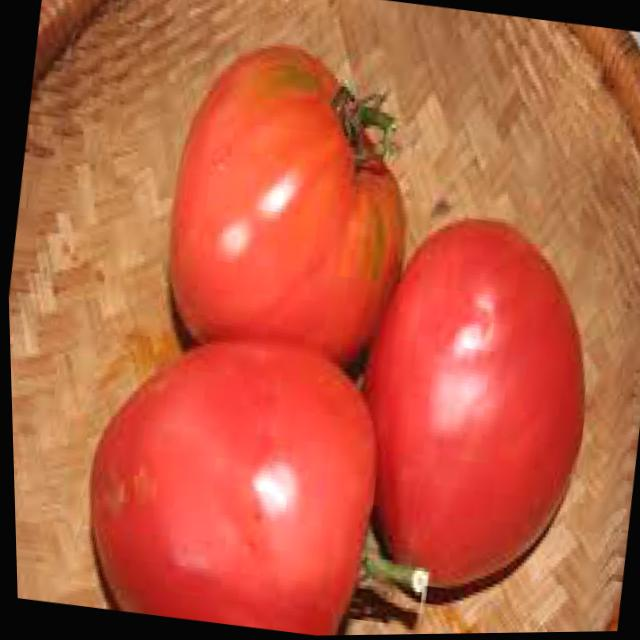tomato: (329, 206, 612, 607), (73, 319, 394, 639), (149, 34, 431, 378)
